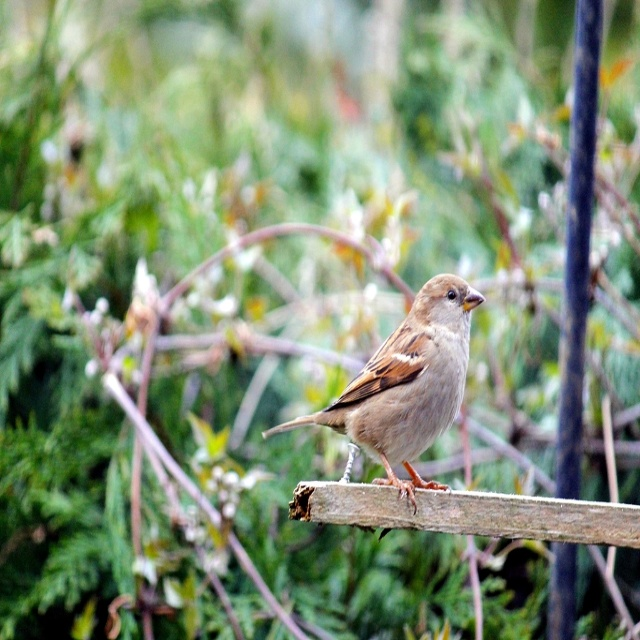Sparrow: (263, 270, 486, 518)
